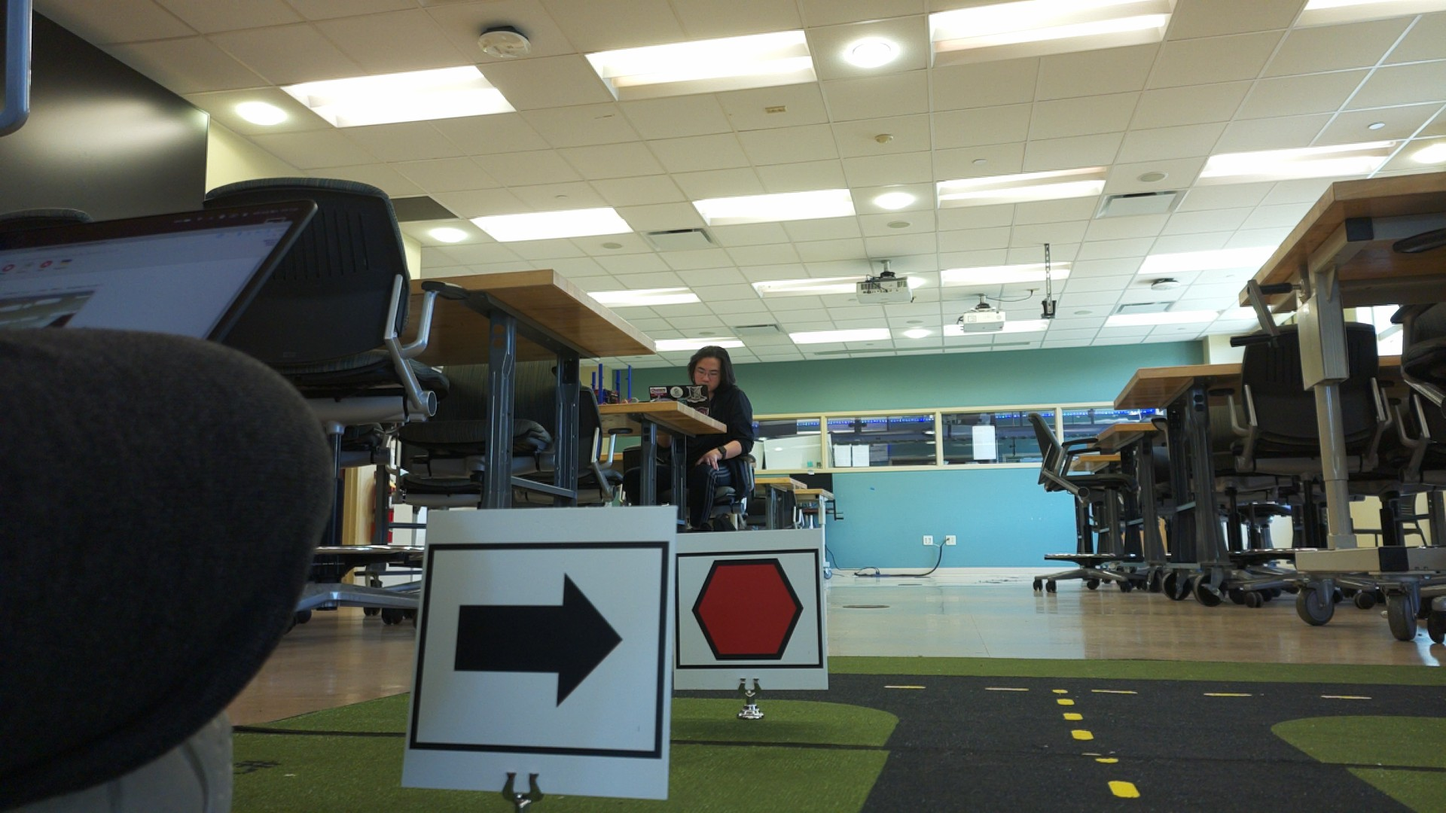stop: (679, 556, 816, 668)
turnright: (427, 548, 664, 763)
yellowline: (1055, 699, 1138, 802)
